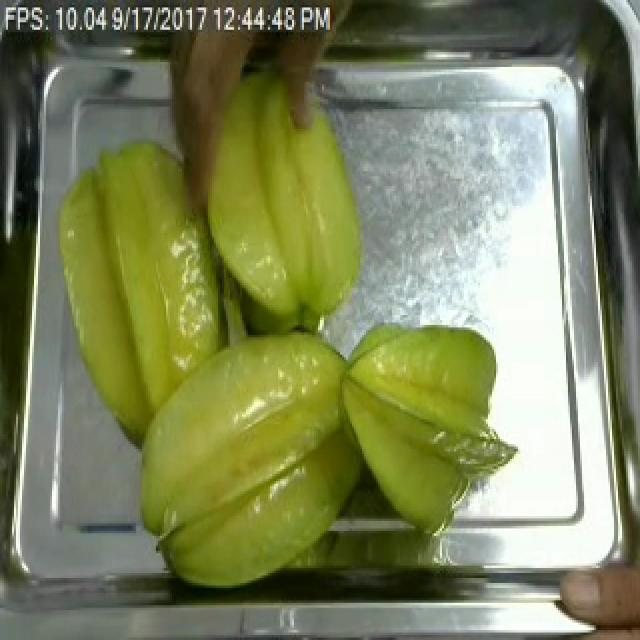fruit: (120, 315, 384, 603), (42, 129, 254, 456), (188, 47, 376, 345), (328, 318, 520, 543)
